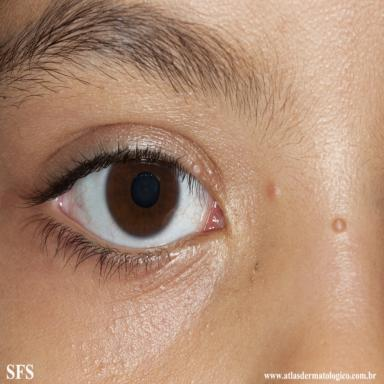Molluscum-Contagiosum: (267, 181, 281, 199), (332, 218, 347, 233)
